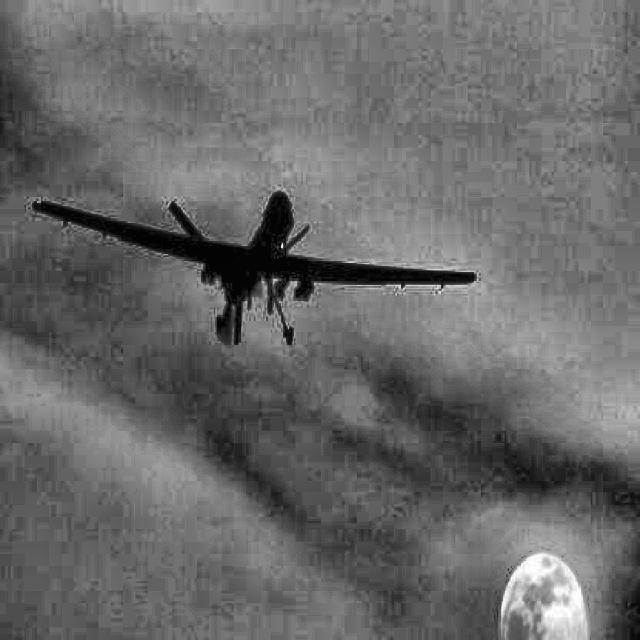MQ9: (31, 189, 475, 345)
